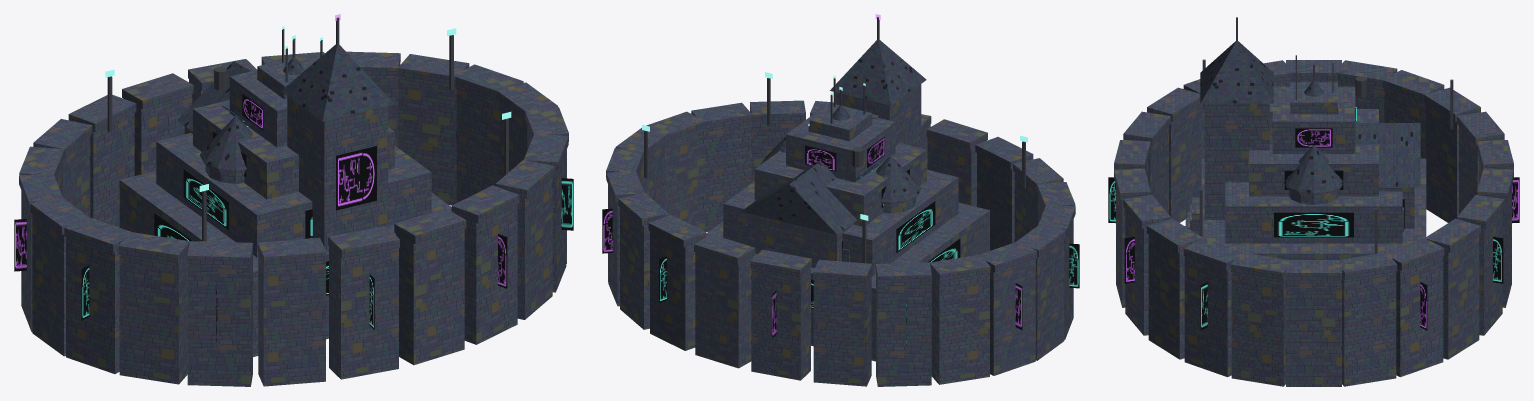
Rendered from nexarch-kit.glb.
3 renders of one model, left to right at view 1: azimuth 30°, elevation 25°; view 2: azimuth 150°, elevation 25°; view 3: azimuth 270°, elevation 25°, orthographic. The views are drawn at different scales.
Parts seen in each view (by area): view 1: arena, vault, cathedral, gate; view 2: arena, vault, cathedral, gate; view 3: arena, vault, cathedral, gate.
Part boxes in pixels (left/top/right/bottom): arena: left=14, top=28, right=573, bottom=386; vault: left=119, top=26, right=451, bottom=356; cathedral: left=177, top=14, right=394, bottom=252; gate: left=199, top=116, right=252, bottom=183; arena: left=602, top=72, right=1079, bottom=386; vault: left=706, top=76, right=989, bottom=361; cathedral: left=741, top=14, right=926, bottom=268; gate: left=760, top=137, right=921, bottom=213; arena: left=1108, top=59, right=1519, bottom=386; vault: left=1185, top=55, right=1426, bottom=259; cathedral: left=1200, top=17, right=1420, bottom=232; gate: left=1283, top=145, right=1344, bottom=204.
Size of the model in its own units: 86.7 by 50.6 by 69.5.
Materials: 17 (7 with a texture image).
